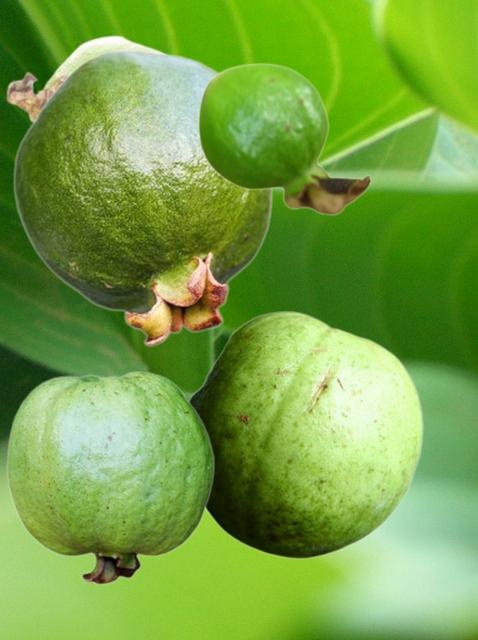guava: (12, 49, 272, 346), (188, 311, 422, 558), (6, 371, 214, 584), (197, 62, 371, 215), (5, 34, 163, 122)
